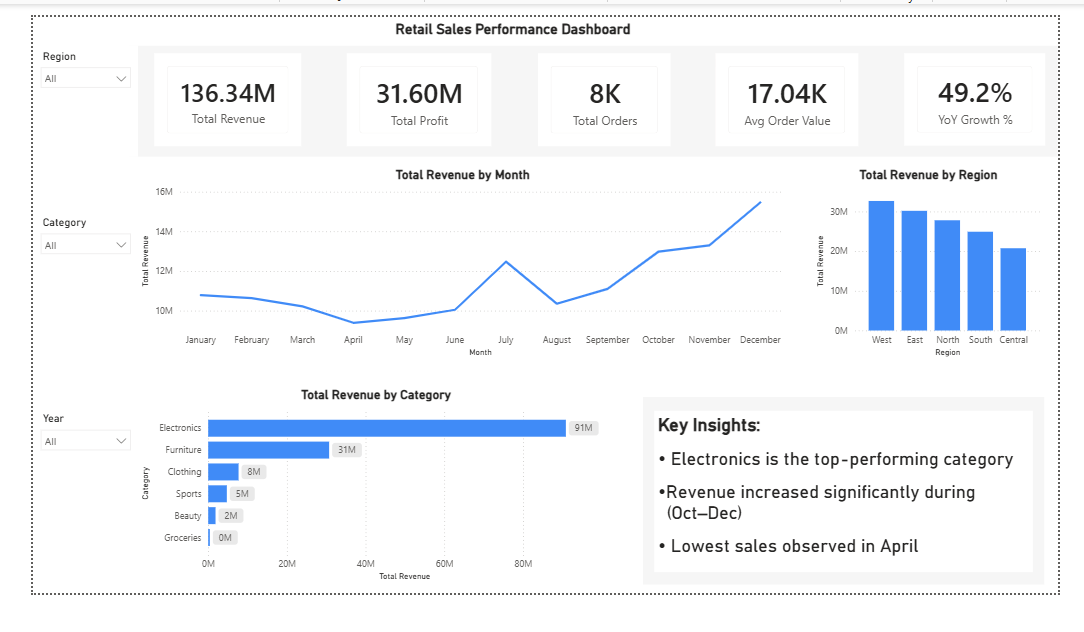

This screenshot's page, from the dashboard's own definition file:
{"tool":"powerbi","page":{"name":"Page 1","canvas":[1366,768],"ordinal":0},"visuals":[{"type":"shape","box":[813.3,506.7,535,250],"z":0},{"type":"shape","box":[128,38,1238,148],"z":1000},{"type":"cardVisual","fields":{"Data":["Sales_Data.Total Revenue"]},"box":[162,48,196,124],"z":2000},{"type":"cardVisual","fields":{"Data":["Sales_Data.Total Profit"]},"box":[418.9,48.6,192.9,124.3],"z":3000},{"type":"cardVisual","fields":{"Data":["Sales_Data.Total Orders"]},"box":[672.7,48.6,177.1,124.3],"z":4000},{"type":"cardVisual","fields":{"Data":["Sales_Data.Avg Order Value"]},"box":[910.7,48,190,124],"z":5000},{"type":"slicer","fields":{"Values":["Sales_Data.Region"]},"box":[0,38.3,140,148.3],"z":6000},{"type":"slicer","fields":{"Values":["Sales_Data.Category"]},"box":[0,260,140,233.3],"z":7000},{"type":"slicer","fields":{"Values":["Sales_Data.Year"]},"box":[0,521.7,140,246.7],"z":8000},{"type":"lineChart","title":"Total Revenue by Month","fields":{"Y":["Sales_Data.Total Revenue"],"Category":["Sales_Data.Month.Variation.Date Hierarchy.Month"]},"box":[140,200,866,258],"z":9000},{"type":"clusteredBarChart","fields":{"Y":["Sales_Data.Total Revenue"],"Category":["Sales_Data.Category"]},"box":[140,493.3,635,263.3],"z":10000},{"type":"clusteredColumnChart","fields":{"Category":["Sales_Data.Region"],"Y":["Sales_Data.Total Revenue"]},"box":[1040,200,308,258],"z":11000},{"type":"cardVisual","fields":{"Data":["Sales_Data.YoY Growth %"]},"box":[1161.7,48.3,188.3,123.3],"z":12000},{"type":"textbox","box":[0,0,1280,37.1],"z":13000},{"type":"textbox","box":[828.3,525,505,215],"z":14000}]}

Visuals, with their boxes on the page's 1366x768 design canvas (x1, y1, x2, y2). These are canvas units, not pixel positions in the 1084x632 screenshot, which may show the page scaled, cropped or inside an application window:
shape: pyautogui.locateOnScreen(813, 507, 1348, 757)
shape: pyautogui.locateOnScreen(128, 38, 1366, 186)
cardVisual - Sales_Data.Total Revenue: pyautogui.locateOnScreen(162, 48, 358, 172)
cardVisual - Sales_Data.Total Profit: pyautogui.locateOnScreen(419, 49, 612, 173)
cardVisual - Sales_Data.Total Orders: pyautogui.locateOnScreen(673, 49, 850, 173)
cardVisual - Sales_Data.Avg Order Value: pyautogui.locateOnScreen(911, 48, 1101, 172)
slicer - Sales_Data.Region: pyautogui.locateOnScreen(0, 38, 140, 187)
slicer - Sales_Data.Category: pyautogui.locateOnScreen(0, 260, 140, 493)
slicer - Sales_Data.Year: pyautogui.locateOnScreen(0, 522, 140, 768)
"Total Revenue by Month" lineChart: pyautogui.locateOnScreen(140, 200, 1006, 458)
clusteredBarChart - Sales_Data.Total Revenue x Sales_Data.Category: pyautogui.locateOnScreen(140, 493, 775, 757)
clusteredColumnChart - Sales_Data.Region x Sales_Data.Total Revenue: pyautogui.locateOnScreen(1040, 200, 1348, 458)
cardVisual - Sales_Data.YoY Growth %: pyautogui.locateOnScreen(1162, 48, 1350, 172)
textbox: pyautogui.locateOnScreen(0, 0, 1280, 37)
textbox: pyautogui.locateOnScreen(828, 525, 1333, 740)
